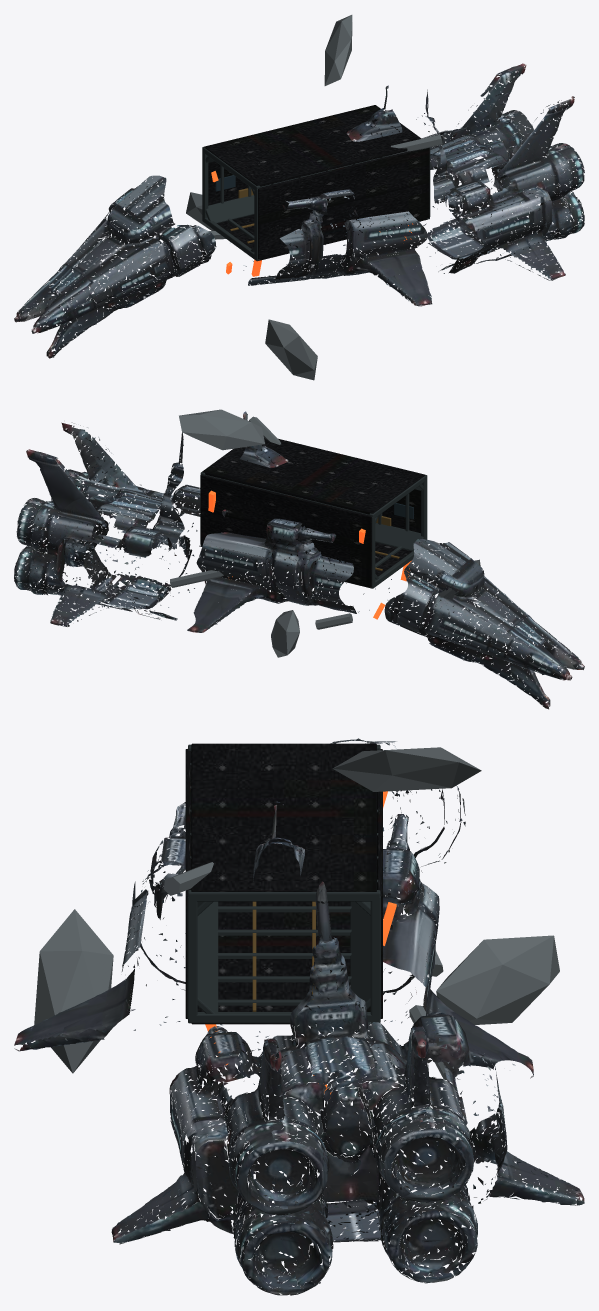
The model's file is concord-battleship-wreck-v2.glb.
The picture shows the model from 3 angles, top to bottom: view 1: azimuth 30°, elevation 25°; view 2: azimuth 150°, elevation 25°; view 3: azimuth 270°, elevation 25°; orthographic projection. The views are drawn at different scales.
Visible parts, largest first — view 1: Battleship wreck forward section, Battleship wreck engine section, Battleship wreck midsection, INTERIOR battleship port wall, INTERIOR battleship overhead, Detached armor shard 4, Detached armor shard 3, STRUCTURE battleship bay chamfer starboard lower, INTERIOR battleship starboard wall, INTERIOR battleship deck, Battleship torn frame 2; view 2: Battleship wreck forward section, Battleship wreck engine section, Battleship wreck midsection, INTERIOR battleship overhead, INTERIOR battleship starboard wall, Detached armor shard 3, Detached armor shard 1, STRUCTURE battleship bay chamfer port lower, INTERIOR battleship port wall, INTERIOR battleship deck, Battleship torn frame 3, Battleship torn frame 1; view 3: Battleship wreck forward section, INTERIOR battleship overhead, Battleship wreck midsection, INTERIOR battleship deck, Detached armor shard 1, Detached armor shard 4, Detached armor shard 3, STRUCTURE battleship bay chamfer port lower, STRUCTURE battleship bay chamfer starboard lower, DETAIL battleship aft broken bulkhead overhead, DETAIL battleship aft broken bulkhead deck, DETAIL battleship aft broken bulkhead port (+7 smaller).
Boxes of the visible parts, box(x1,y1,x2,y2) form: Battleship wreck forward section: box(396, 63, 584, 280); Battleship wreck engine section: box(14, 175, 216, 358); Battleship wreck midsection: box(230, 85, 432, 306); INTERIOR battleship port wall: box(258, 147, 429, 259); INTERIOR battleship overhead: box(204, 105, 421, 186); Detached armor shard 4: box(265, 319, 317, 380); Detached armor shard 3: box(324, 15, 352, 85); STRUCTURE battleship bay chamfer starboard lower: box(205, 195, 254, 223); INTERIOR battleship starboard wall: box(208, 161, 247, 205); INTERIOR battleship deck: box(217, 215, 426, 260); Battleship torn frame 2: box(391, 134, 442, 154); Battleship wreck forward section: box(14, 422, 202, 626); Battleship wreck engine section: box(384, 539, 584, 709); Battleship wreck midsection: box(187, 411, 391, 632); INTERIOR battleship overhead: box(202, 438, 425, 514); INTERIOR battleship starboard wall: box(201, 475, 371, 586); Detached armor shard 3: box(179, 409, 264, 450); Detached armor shard 1: box(271, 610, 299, 657); STRUCTURE battleship bay chamfer port lower: box(375, 523, 423, 551); INTERIOR battleship port wall: box(382, 489, 420, 533); INTERIOR battleship deck: box(222, 542, 411, 588); Battleship torn frame 3: box(170, 570, 223, 587); Battleship torn frame 1: box(315, 613, 352, 629); Battleship wreck forward section: box(111, 881, 584, 1295); INTERIOR battleship overhead: box(191, 743, 376, 891); Battleship wreck midsection: box(14, 801, 533, 1078); INTERIOR battleship deck: box(191, 901, 370, 1024); Detached armor shard 1: box(436, 935, 559, 1024); Detached armor shard 4: box(34, 909, 113, 1073); Detached armor shard 3: box(332, 747, 481, 791); STRUCTURE battleship bay chamfer port lower: box(197, 901, 218, 1013); STRUCTURE battleship bay chamfer starboard lower: box(350, 901, 370, 1011); DETAIL battleship aft broken bulkhead overhead: box(188, 890, 380, 901); DETAIL battleship aft broken bulkhead deck: box(188, 1012, 380, 1023); DETAIL battleship aft broken bulkhead port: box(187, 896, 197, 1019).
Size of what is drawn, in the model's own units: 2.23 by 0.9927 by 1.17.
Materials: 7 (2 with a texture image).
